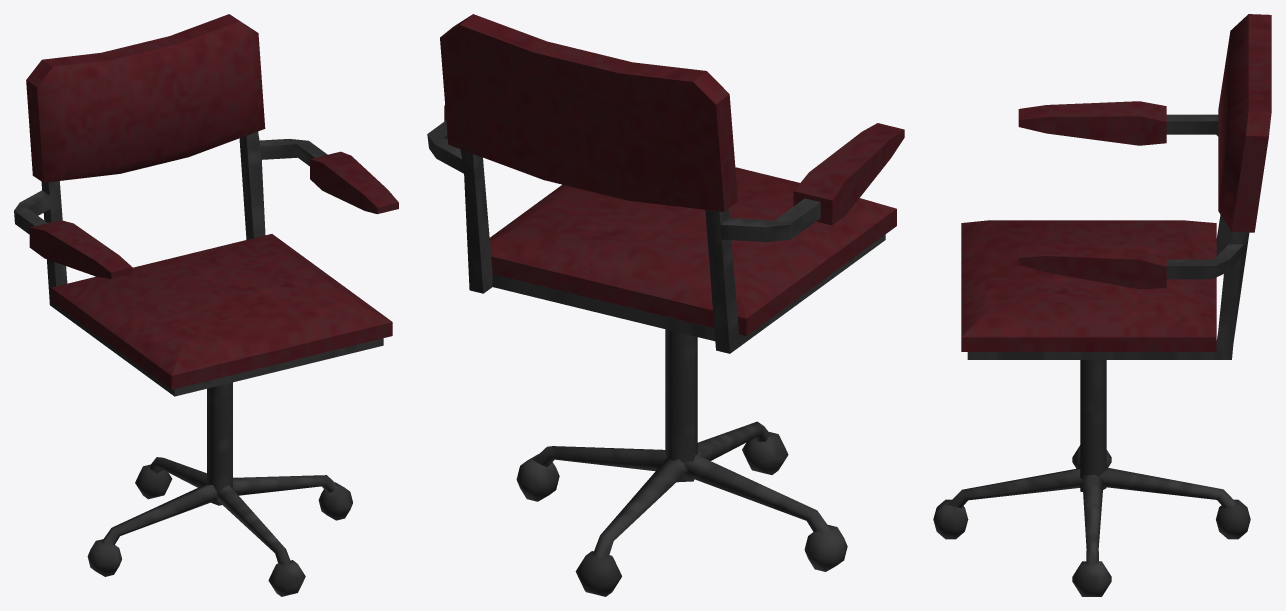
Rendered from chair_office.fbx.
3 views of the same model, side by side, from view 1: azimuth 30°, elevation 25°; view 2: azimuth 150°, elevation 25°; view 3: azimuth 270°, elevation 25° (orthographic). The views are drawn at different scales.
Visible parts, largest first — view 1: chair_office; view 2: chair_office; view 3: chair_office.
Boxes of the visible parts, x1=… form: chair_office: x1=14, y1=14, x2=398, y2=596; chair_office: x1=427, y1=14, x2=904, y2=596; chair_office: x1=933, y1=14, x2=1271, y2=596.
Bounding box in the file's own units: 73.24 × 100 × 65.13.
Materials: 1 (1 with a texture image).
